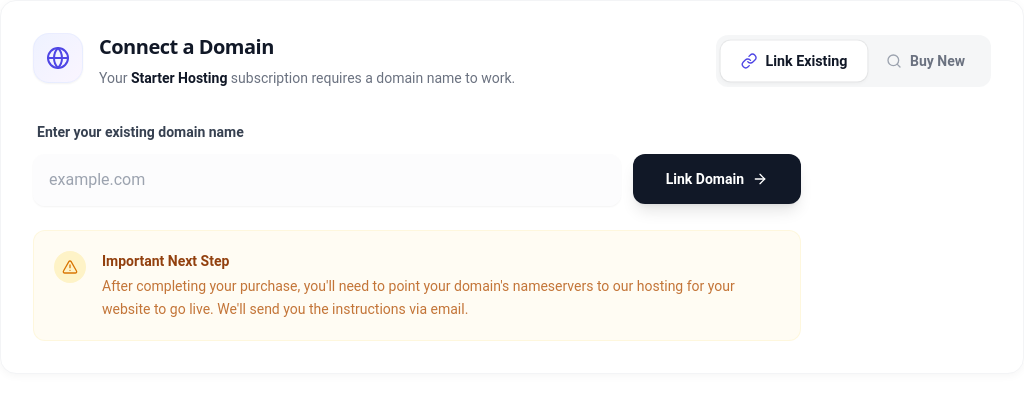
Test case: <DomainSetup> › Link Existing tab › shows 'Invalid domain format' for a malformed input
This screenshot has width=1024, height=419.
In the field with placeholder "example.com": (327, 180) top-left (33, 154), bottom-right (621, 206), type "not-a-domain"
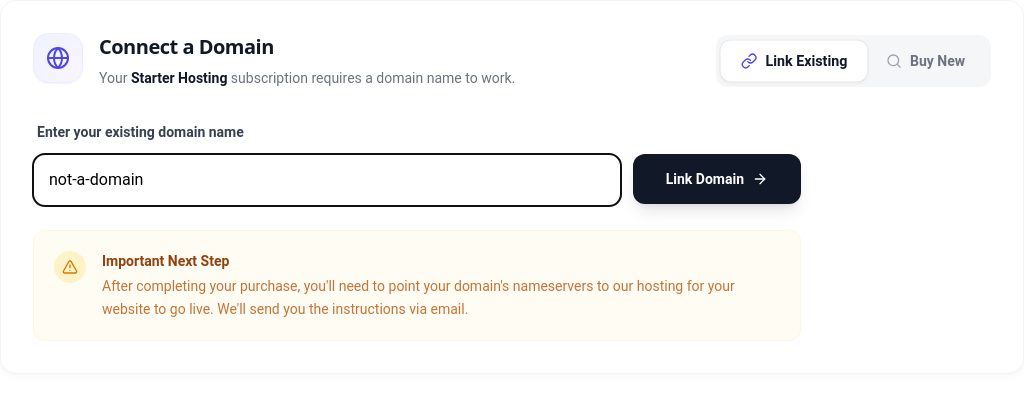
Click the button "Link Domain": (717, 179) top-left (633, 154), bottom-right (801, 204)
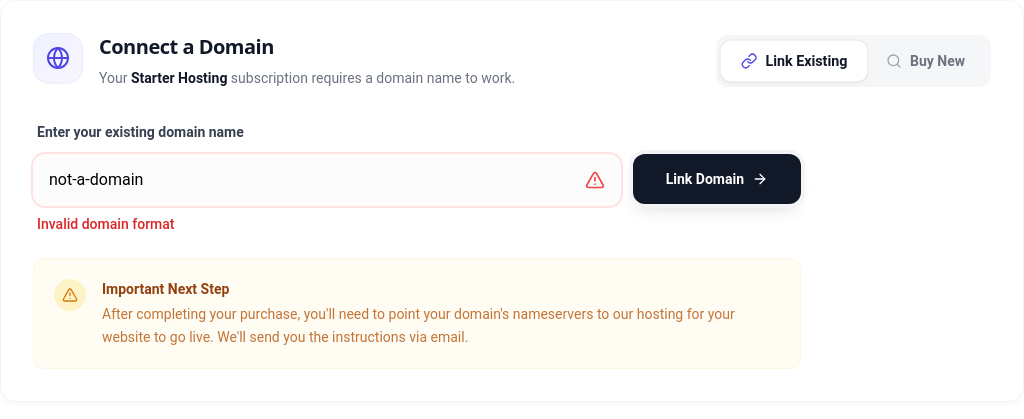
Expected: the text "Invalid domain format" is shown, top-left (37, 216), bottom-right (174, 232)
